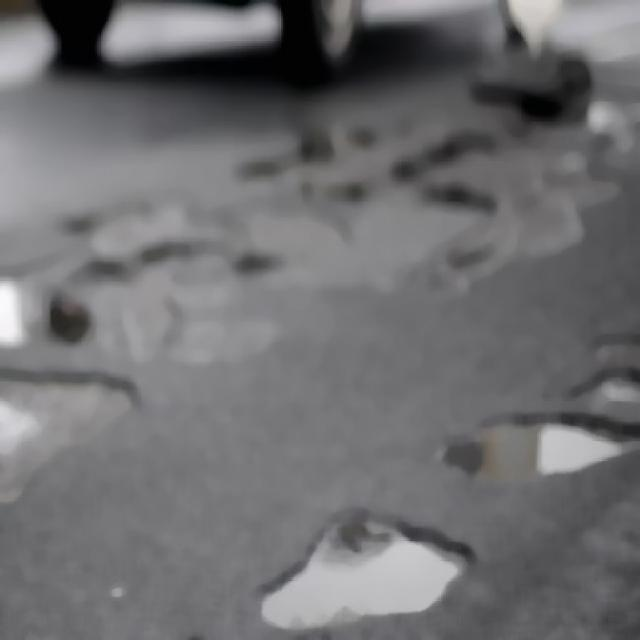Pothole: (272, 509, 456, 625), (462, 404, 640, 479), (111, 606, 295, 639)
